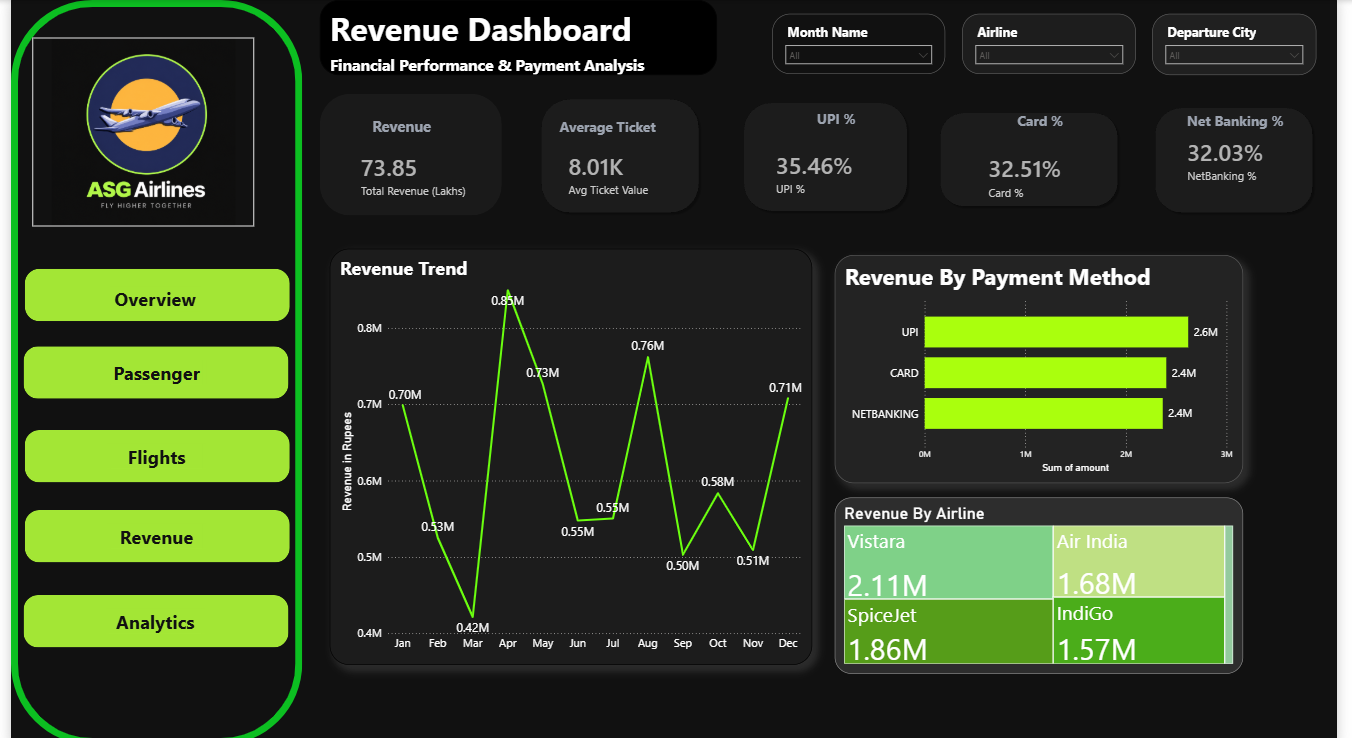

What the dashboard file says about the page in this screenshot:
{"tool":"powerbi","page":{"name":"Revenue","canvas":[1920,1080],"ordinal":3},"visuals":[{"type":"shape","box":[1650.9,150.9,240,163.6],"z":0},{"type":"shape","box":[0,0,421.7,1078.6],"z":1000},{"type":"textbox","title":"Revenue Dashboard","box":[447,0,575.5,108.6],"z":2000},{"type":"image","box":[30.8,54.3,322.1,273.3],"z":3000},{"type":"shape","box":[19.9,389.1,383.6,76],"z":4000},{"type":"textbox","title":"Overview","box":[137.5,414.4,143,36.2],"z":5000},{"type":"shape","box":[18.1,501.3,383.6,76],"z":6000},{"type":"shape","box":[19.9,622.5,383.6,76],"z":7000},{"type":"shape","box":[19.9,738.3,383.6,76],"z":8000},{"type":"shape","box":[18.1,861.4,383.6,76],"z":9000},{"type":"textbox","title":"Passengers","box":[139.3,521.2,143,36.2],"z":10000},{"type":"textbox","title":"Flights","box":[139.3,642.4,143,36.2],"z":11000},{"type":"textbox","title":"Analytics","box":[137.5,881.3,143,36.2],"z":12000},{"type":"textbox","title":"Revenue","box":[139.3,758.2,143,36.2],"z":13000},{"type":"shape","box":[447.3,136.4,263.6,176.4],"z":14000},{"type":"textbox","title":"Revenue","box":[477.8,168.3,175.5,38],"z":15000},{"type":"shape","box":[761.8,138.2,240,176.4],"z":16000},{"type":"shape","box":[1054.7,143.6,248.5,168.6],"z":16000,"group":"g1"},{"type":"textbox","box":[1022.5,389.1,224.4,86.9],"z":17000},{"type":"shape","box":[1340,158.2,269.1,147.3],"z":18000},{"type":"cardVisual","fields":{"Data":["payments.Total Revenue (Lakhs)"]},"box":[477.5,190.2,283.3,114.9],"z":19000},{"type":"textbox","title":"UPI %","box":[1047.3,158.5,293.3,81.7],"z":20000,"group":"g1"},{"type":"cardVisual","fields":{"Data":["payments.Avg Ticket Value"]},"box":[778.2,189.1,281.8,114.5],"z":20000},{"type":"lineChart","title":"Revenue Trend","fields":{"Category":["bookings.Month Name"],"Y":["Sum(payments.amount)"]},"box":[461.5,360.1,698.5,602.6],"z":21000},{"type":"clusteredBarChart","title":"Revenue By Payment Method","fields":{"Category":["payments.payment_method"],"Y":["Sum(payments.amount)"]},"box":[1192.9,369.6,591.1,330.4],"z":22000},{"type":"cardVisual","fields":{"Data":["payments.Card %"]},"box":[1385.5,192.7,287.3,121.8],"z":23000},{"type":"slicer","fields":{"Values":["bookings.Month Name"]},"box":[1101.6,20.3,250,87.5],"z":24000},{"type":"slicer","fields":{"Values":["flights.source"]},"box":[1653.1,20.3,237.5,89.1],"z":25000},{"type":"cardVisual","fields":{"Data":["payments.UPI %"]},"box":[1077.4,187.3,308.1,125.4],"z":26000,"group":"g1"},{"type":"treemap","title":"Revenue By Airline","fields":{"Values":["Sum(payments.amount)"],"Group":["flights.airline"]},"box":[1192.9,719.6,591.1,255.4],"z":26000},{"type":"slicer","fields":{"Values":["flights.airline"]},"box":[1376.6,20.3,251.6,87.5],"z":27000},{"type":"group","id":"g1","title":"Group 1","box":[1047.3,143.6,338.2,169.1],"z":28000},{"type":"textbox","title":"Card %","box":[1369.1,161.8,240,85.5],"z":29000},{"type":"textbox","title":"Average Ticket","box":[744.5,170,240,85.5],"z":30000},{"type":"textbox","title":"Net Banking %","box":[1652.7,161.8,240,85.5],"z":31000},{"type":"cardVisual","fields":{"Data":["payments.NetBanking %"]},"box":[1674.5,169.1,218.2,130.9],"z":32000}]}

Visuals, with their boxes on the page's 1920x1080 design canvas (x1, y1, x2, y2). These are canvas units, not pixel positions in the 1352x738 screenshot, which may show the page scaled, cropped or inside an application window:
shape: {"left": 1651, "top": 151, "right": 1891, "bottom": 314}
shape: {"left": 0, "top": 0, "right": 422, "bottom": 1079}
"Revenue Dashboard" textbox: {"left": 447, "top": 0, "right": 1022, "bottom": 109}
image: {"left": 31, "top": 54, "right": 353, "bottom": 328}
shape: {"left": 20, "top": 389, "right": 404, "bottom": 465}
"Overview" textbox: {"left": 138, "top": 414, "right": 280, "bottom": 451}
shape: {"left": 18, "top": 501, "right": 402, "bottom": 577}
shape: {"left": 20, "top": 622, "right": 404, "bottom": 698}
shape: {"left": 20, "top": 738, "right": 404, "bottom": 814}
shape: {"left": 18, "top": 861, "right": 402, "bottom": 937}
"Passengers" textbox: {"left": 139, "top": 521, "right": 282, "bottom": 557}
"Flights" textbox: {"left": 139, "top": 642, "right": 282, "bottom": 679}
"Analytics" textbox: {"left": 138, "top": 881, "right": 280, "bottom": 918}
"Revenue" textbox: {"left": 139, "top": 758, "right": 282, "bottom": 794}
shape: {"left": 447, "top": 136, "right": 711, "bottom": 313}
"Revenue" textbox: {"left": 478, "top": 168, "right": 653, "bottom": 206}
shape: {"left": 762, "top": 138, "right": 1002, "bottom": 315}
shape: {"left": 1055, "top": 144, "right": 1303, "bottom": 312}
textbox: {"left": 1022, "top": 389, "right": 1247, "bottom": 476}
shape: {"left": 1340, "top": 158, "right": 1609, "bottom": 306}
cardVisual - payments.Total Revenue (Lakhs): {"left": 478, "top": 190, "right": 761, "bottom": 305}
"UPI %" textbox: {"left": 1047, "top": 158, "right": 1341, "bottom": 240}
cardVisual - payments.Avg Ticket Value: {"left": 778, "top": 189, "right": 1060, "bottom": 304}
"Revenue Trend" lineChart: {"left": 462, "top": 360, "right": 1160, "bottom": 963}
"Revenue By Payment Method" clusteredBarChart: {"left": 1193, "top": 370, "right": 1784, "bottom": 700}
cardVisual - payments.Card %: {"left": 1386, "top": 193, "right": 1673, "bottom": 314}
slicer - bookings.Month Name: {"left": 1102, "top": 20, "right": 1352, "bottom": 108}
slicer - flights.source: {"left": 1653, "top": 20, "right": 1891, "bottom": 109}
cardVisual - payments.UPI %: {"left": 1077, "top": 187, "right": 1386, "bottom": 313}
"Revenue By Airline" treemap: {"left": 1193, "top": 720, "right": 1784, "bottom": 975}
slicer - flights.airline: {"left": 1377, "top": 20, "right": 1628, "bottom": 108}
"Group 1" group: {"left": 1047, "top": 144, "right": 1386, "bottom": 313}
"Card %" textbox: {"left": 1369, "top": 162, "right": 1609, "bottom": 247}
"Average Ticket" textbox: {"left": 744, "top": 170, "right": 984, "bottom": 256}
"Net Banking %" textbox: {"left": 1653, "top": 162, "right": 1893, "bottom": 247}
cardVisual - payments.NetBanking %: {"left": 1674, "top": 169, "right": 1893, "bottom": 300}
